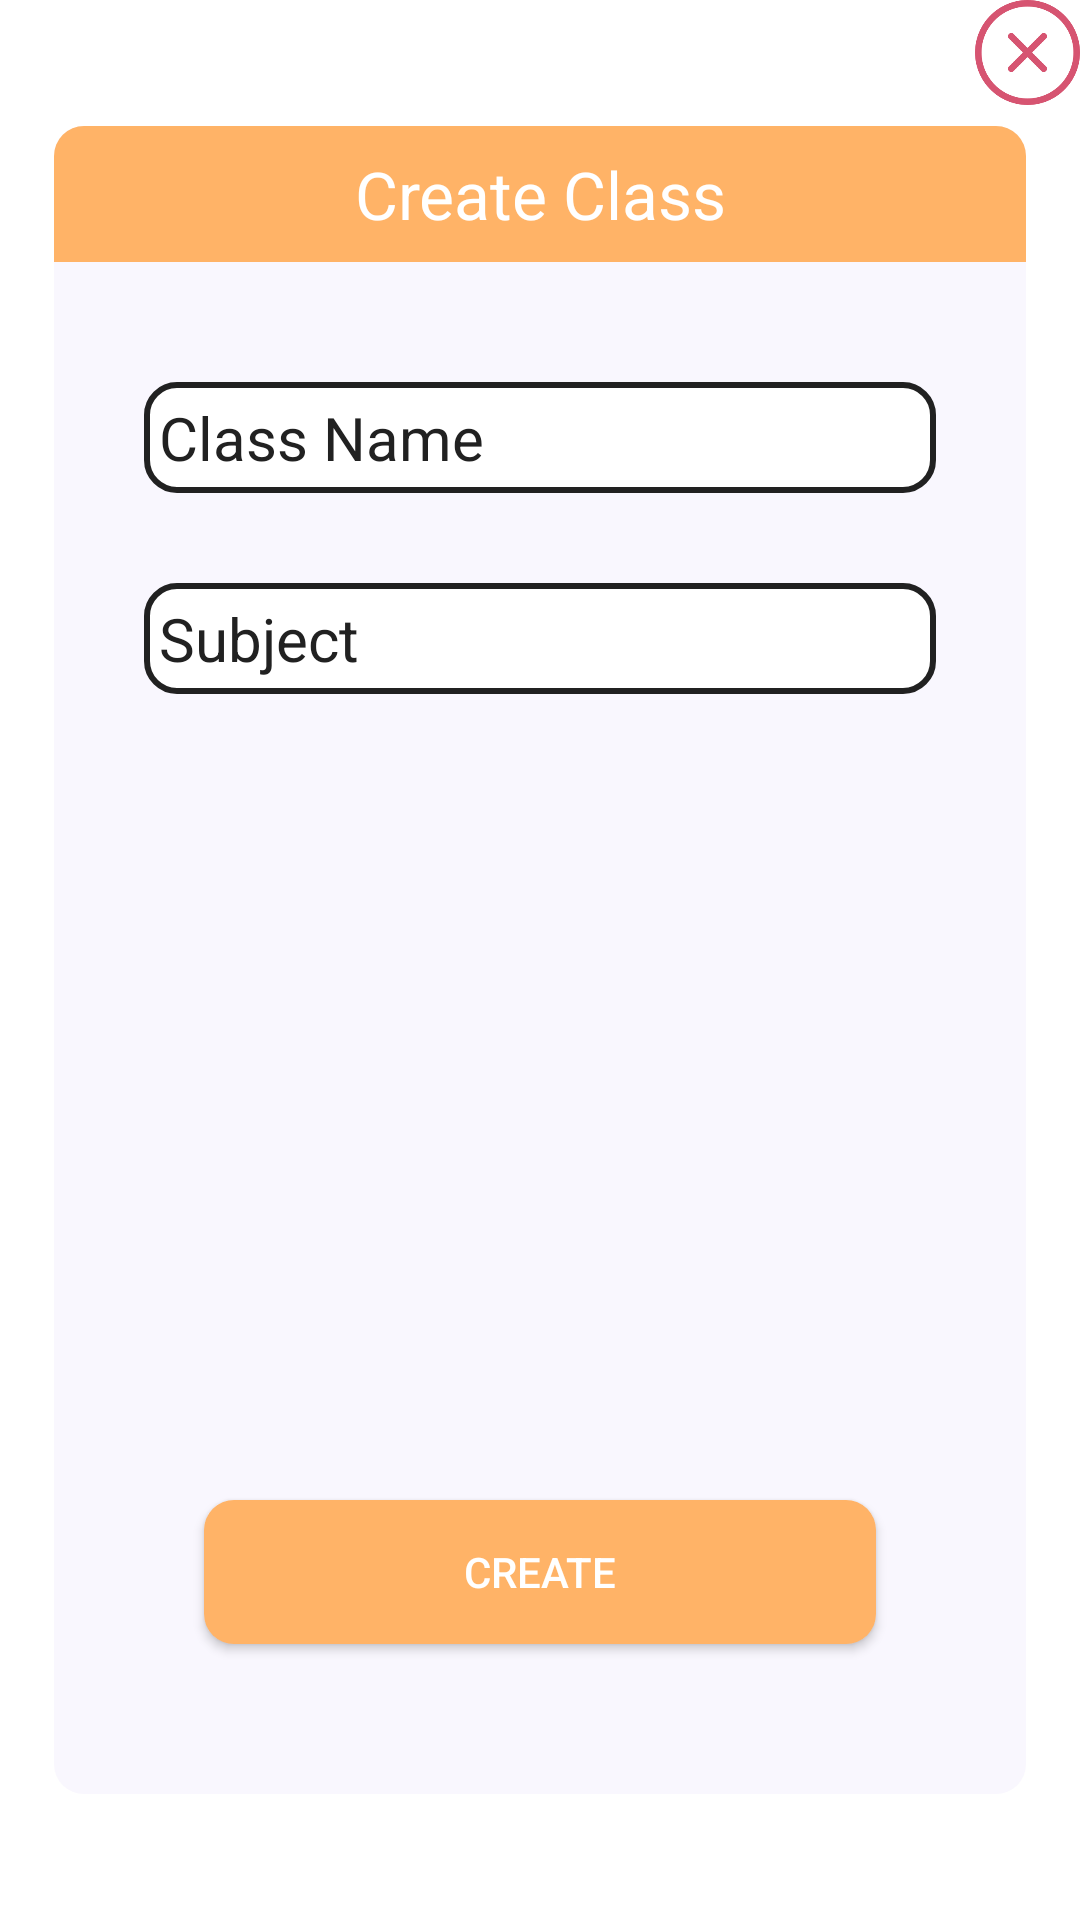

Screen size 1080px×1920px. Icon name, then its box in pixels as (x1, y1, x2, y2):
remove: (975, 0, 1080, 105)
